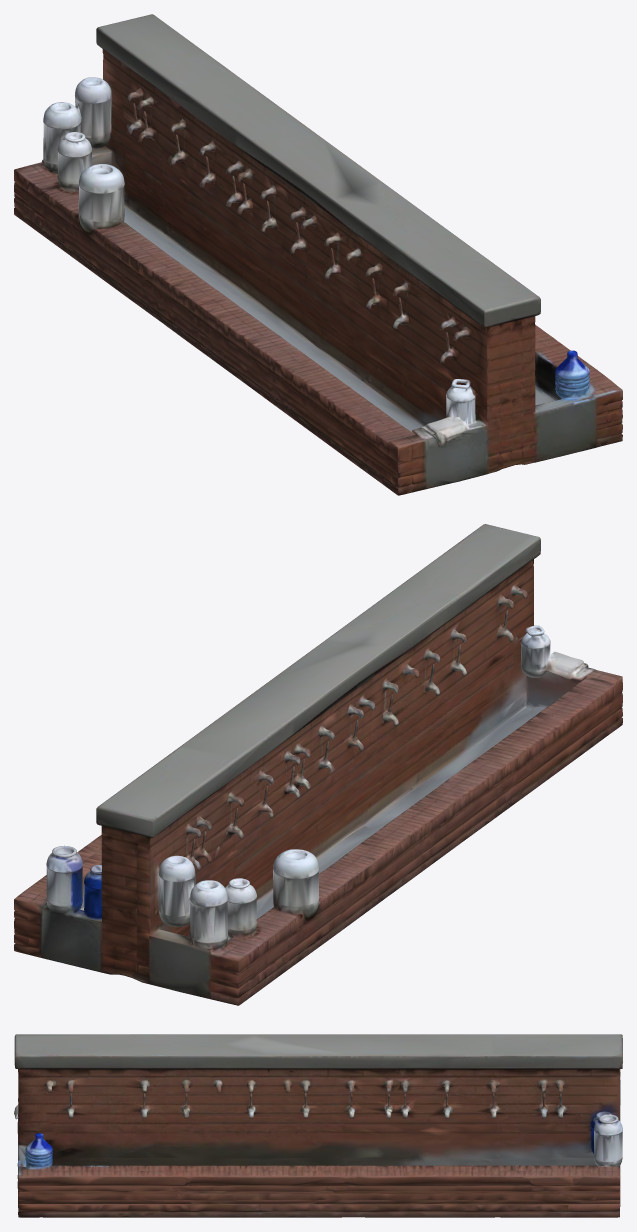
Rendered from newlandsValves3DModel.glb.
The picture shows the model from 3 angles, top to bottom: view 1: azimuth 30°, elevation 25°; view 2: azimuth 150°, elevation 25°; view 3: azimuth 270°, elevation 25°; orthographic projection. The views are drawn at different scales.
Parts seen in each view (by area): view 1: node_0; view 2: node_0; view 3: node_0.
Boxes of the visible parts, box(x1,y1,x2,y2) form: node_0: box(14, 14, 622, 495); node_0: box(14, 524, 622, 1005); node_0: box(14, 1034, 622, 1217).
Bounding box in the file's own units: 0.382 × 0.2656 × 1.12.
Materials: 1 (1 with a texture image).
